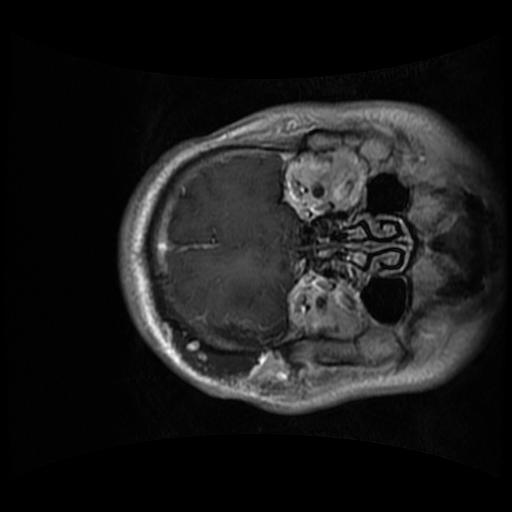glioma: (193, 315, 285, 354)
